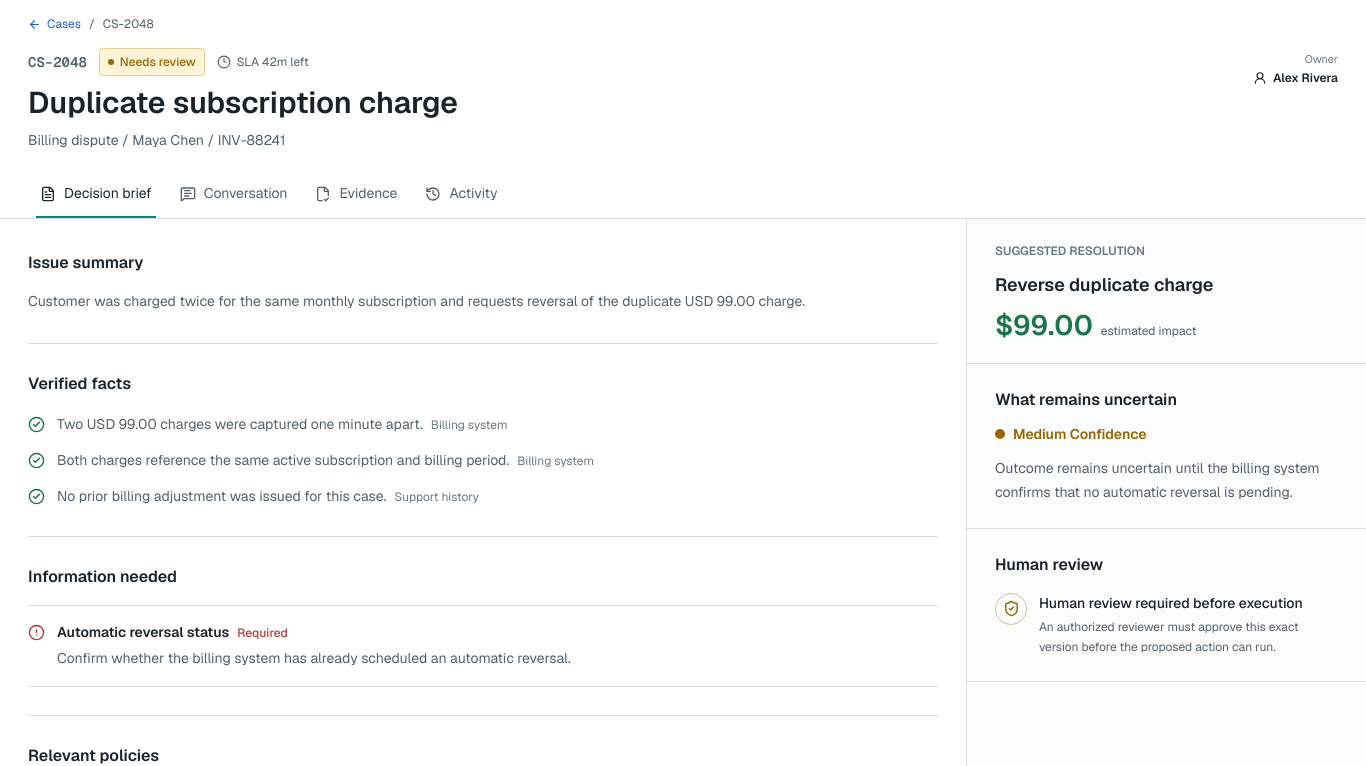
Test: CaseWorkspace › loads older conversation and activity pages without replacing current items
This screenshot has width=1366, height=766.
Click the tab "Conversation" at [234, 194], box [168,170,300,218]
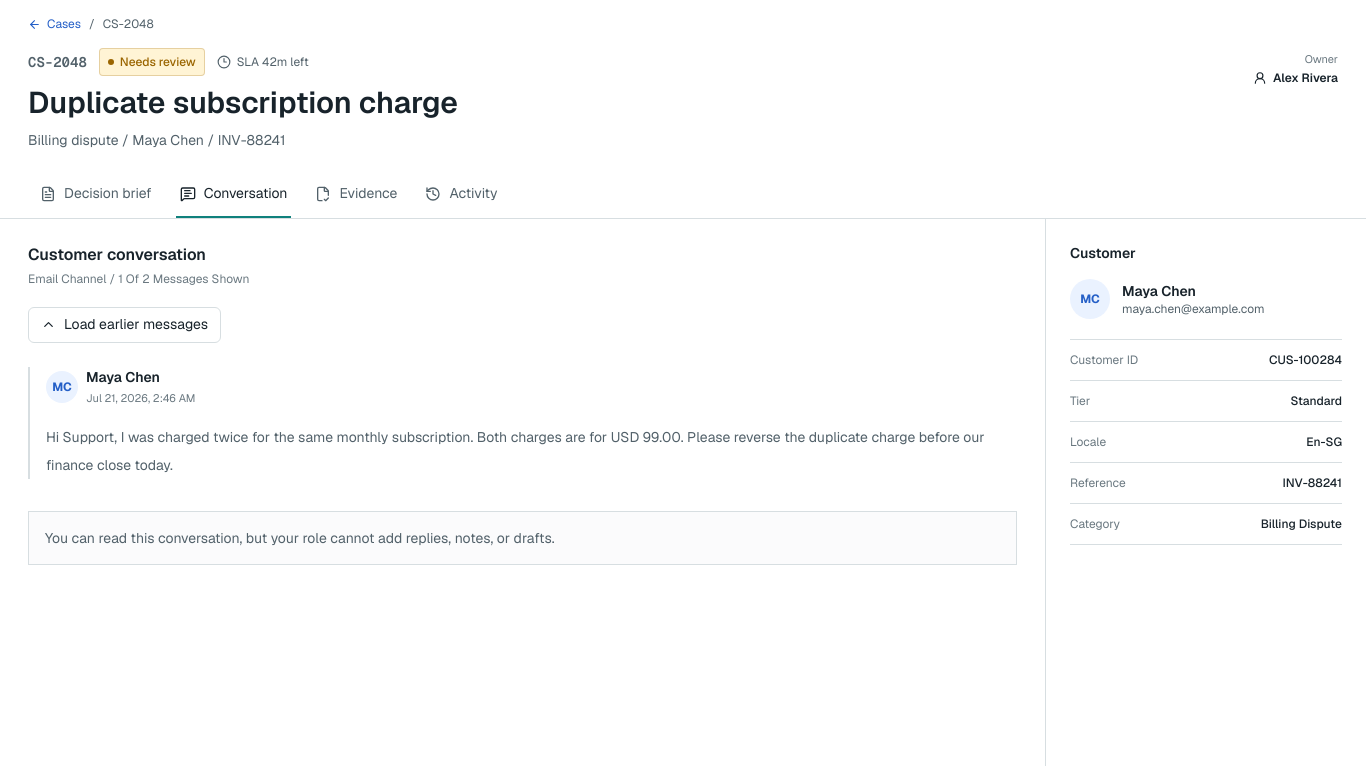
Click the button "Load earlier messages" at [125, 324], box [28,306,221,342]
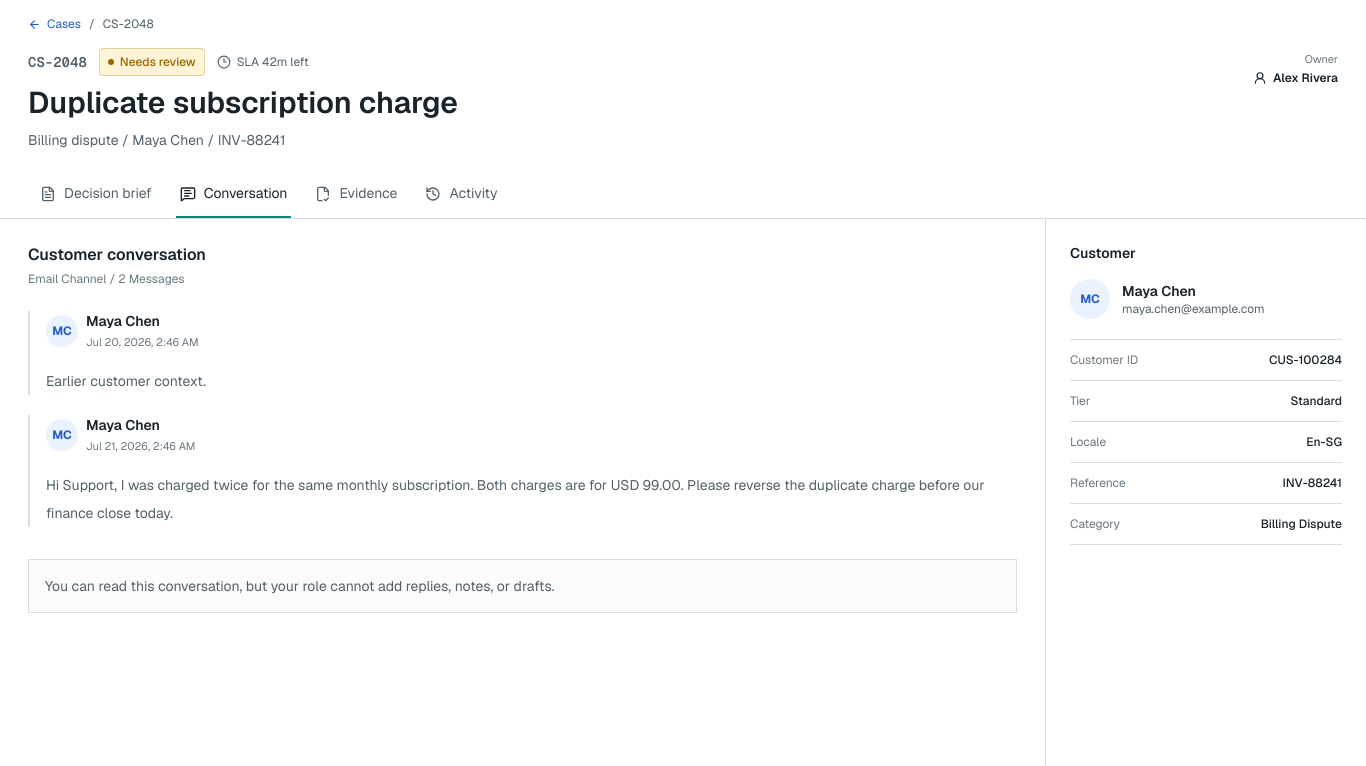
Result: the text "I was charged twice for the same monthly subscription" is shown at [46,476,985,522]
Result: the text "Earlier customer context." is shown at [46,372,206,390]
Click the tab "Activity" at [462, 194], box [414,170,510,218]
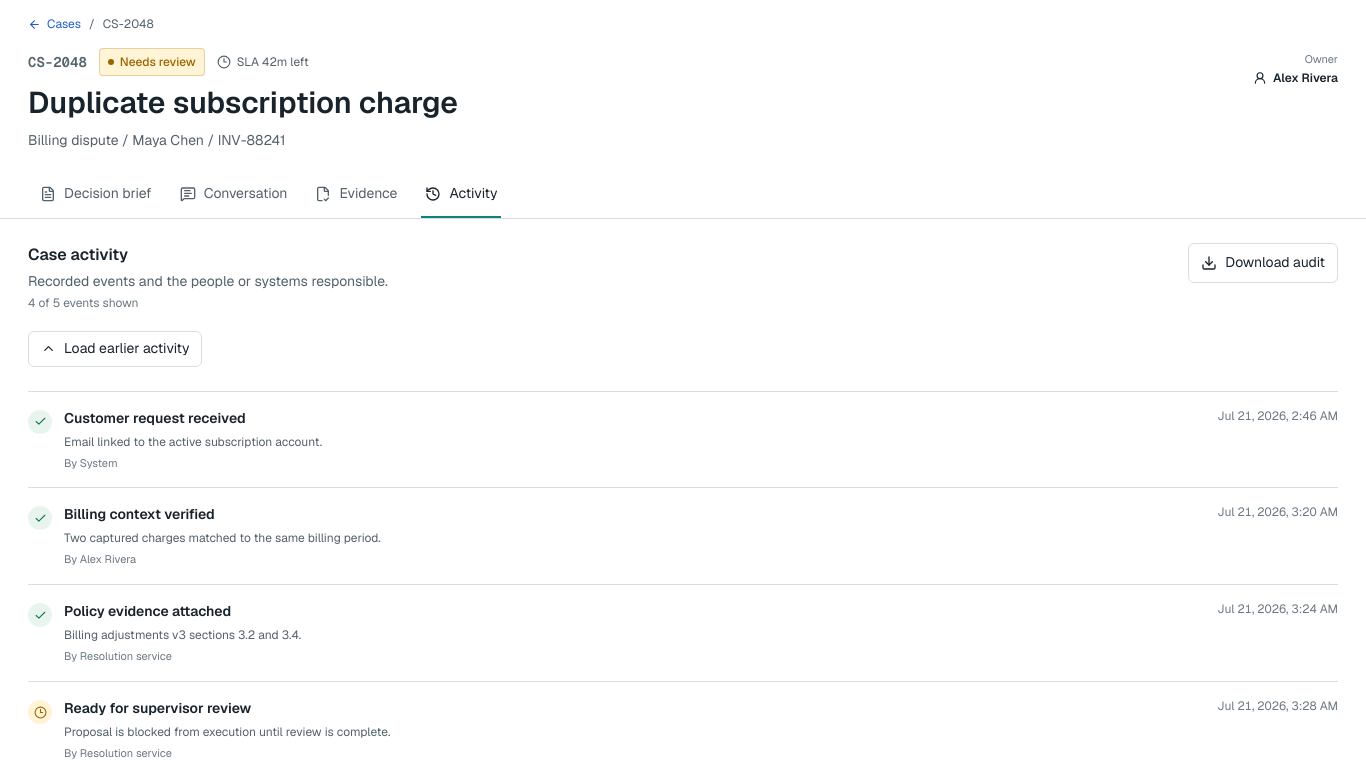
Click the button "Load earlier activity" at [115, 348], box [28,330,202,366]
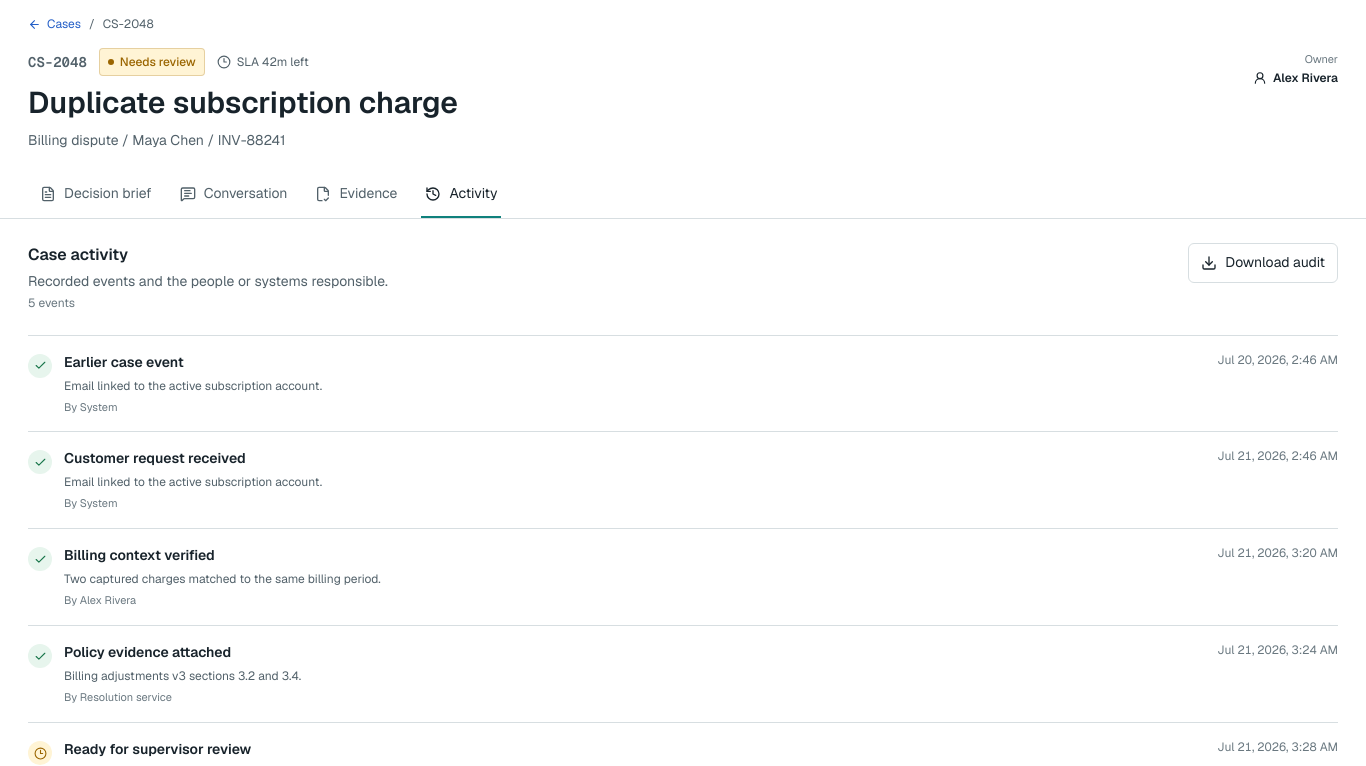
Result: the text "Ready for supervisor review" is shown at [64,740,251,758]
Result: the text "Earlier case event" is shown at [64,352,184,370]
